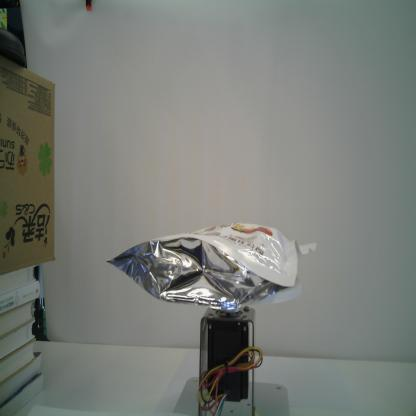Dried Food: (105, 220, 318, 316)
